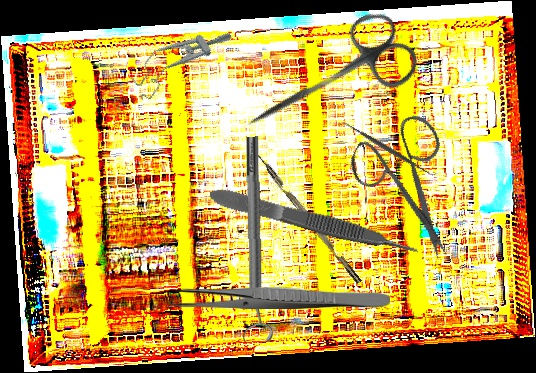Chopper: (246, 146, 362, 290)
Dressing Forceps: (172, 287, 390, 309)
Fixation Ring: (236, 136, 275, 342)
Iris Scissors: (229, 3, 426, 162), (327, 97, 498, 263)
Spatula Surgical: (336, 115, 439, 183)
Speculum: (123, 12, 237, 104)
Tissue Forceps: (207, 182, 421, 264)
